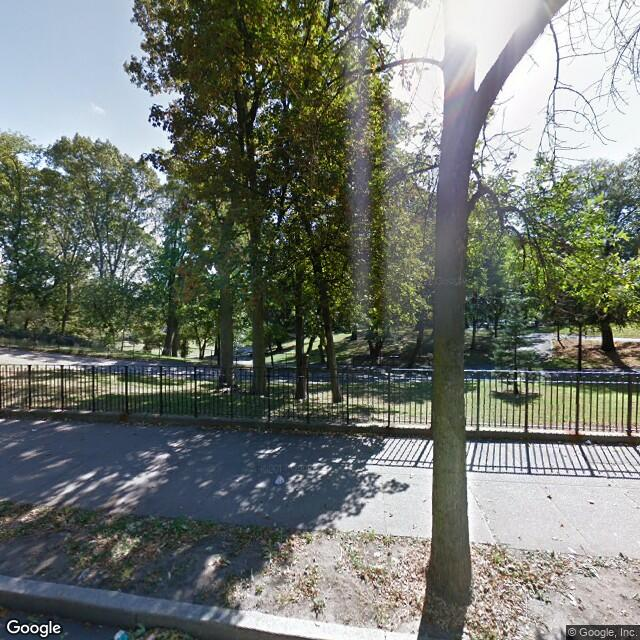litter: (116, 627, 137, 640), (584, 436, 593, 446)
